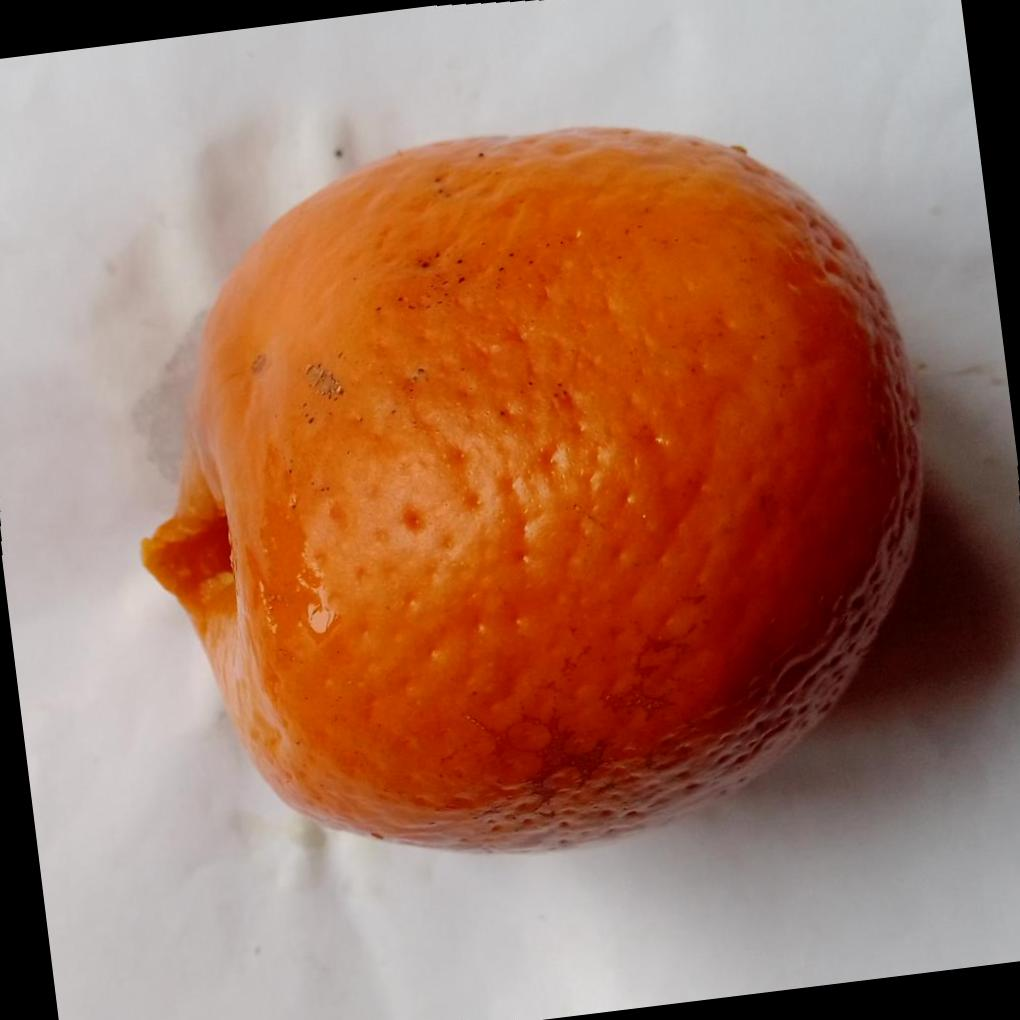FreshOrange: (141, 126, 926, 859)
